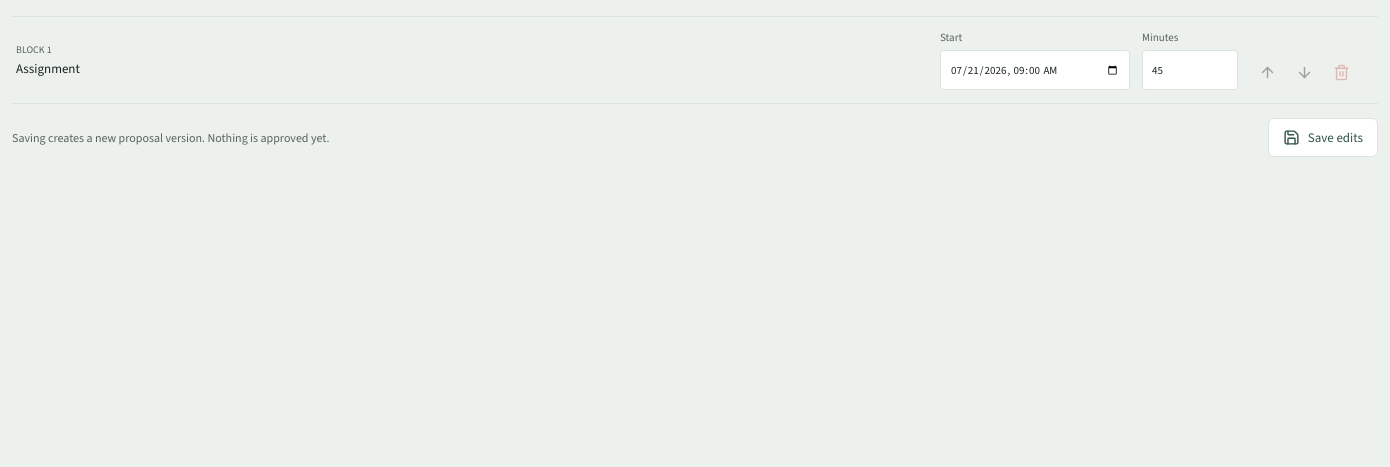
Test: PlanProposalEditor › retains an edited draft when the versioned save fails
Replace the text in the number field named "Minutes Assignment" with "30" at (1190, 70), box x1=1142 y1=50 x2=1238 y2=90
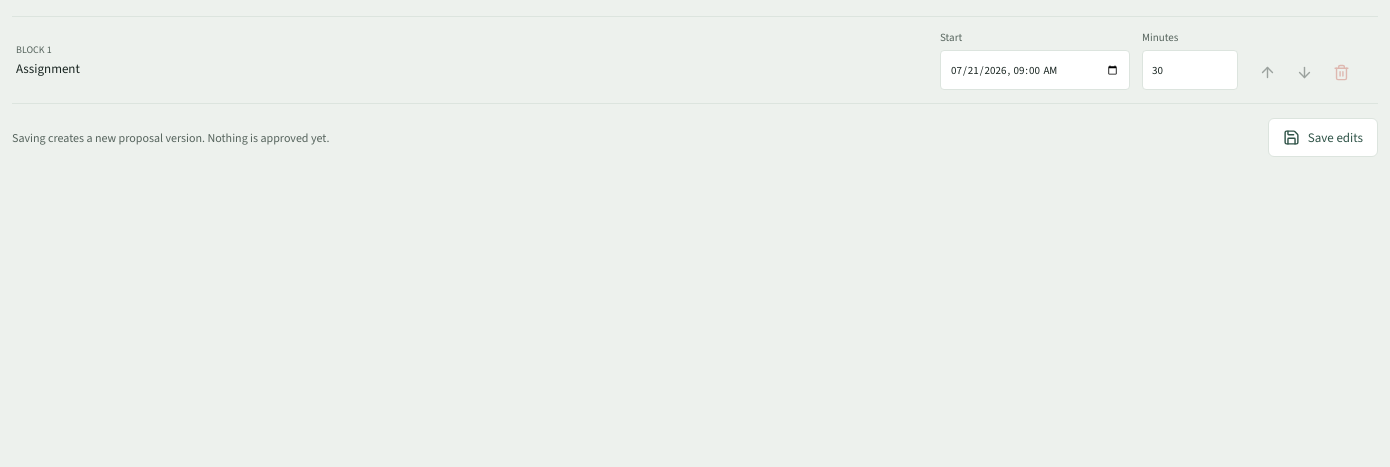
Click the button "Save edits" at (1323, 138), box x1=1268 y1=118 x2=1378 y2=157
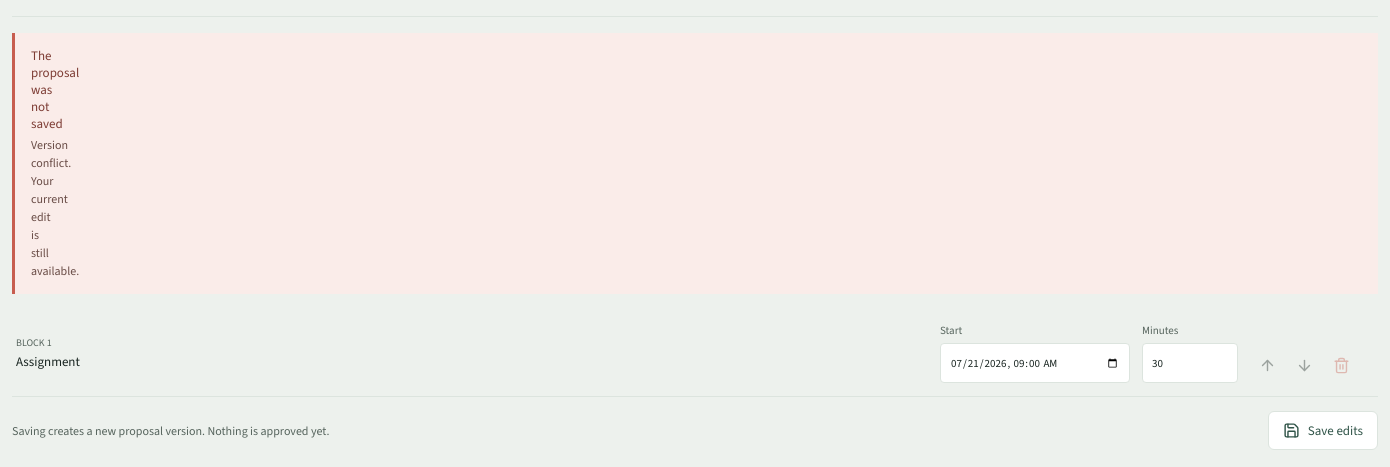
Expected: the message shows "Version conflict.", x1=31 y1=137 x2=71 y2=171
